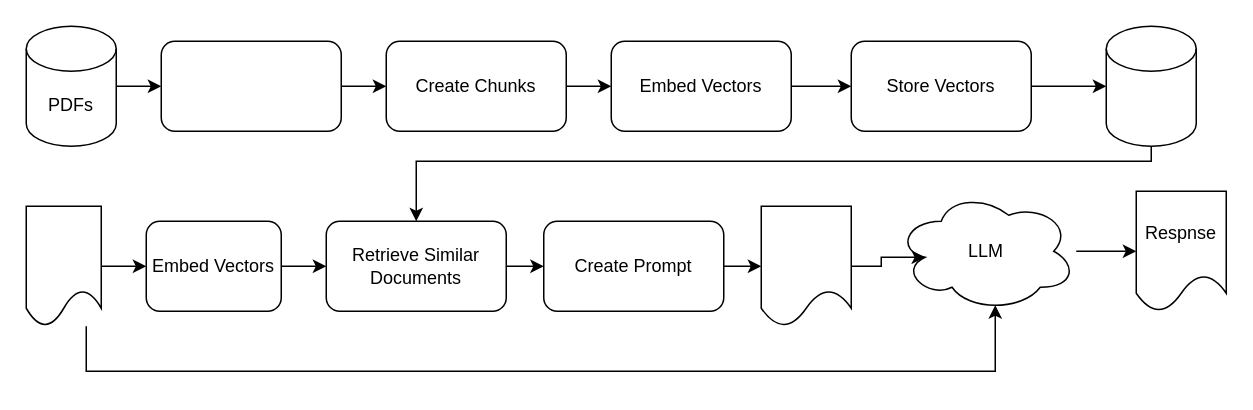
Some shapes in this 1253 by 410 pixel diagram are drawn without their labels. The shapes that lost their labels are listed below. From the top down, each one's centre as x and y in pixels, then its label:
the point at 250,85: Ingest PDFs
the point at 1150,85: Vector Store
the point at 63,265: Query
the point at 805,265: Prompt
